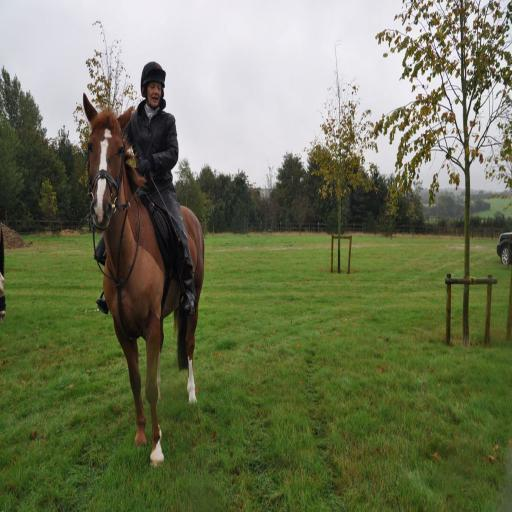horse: (82, 90, 206, 468)
